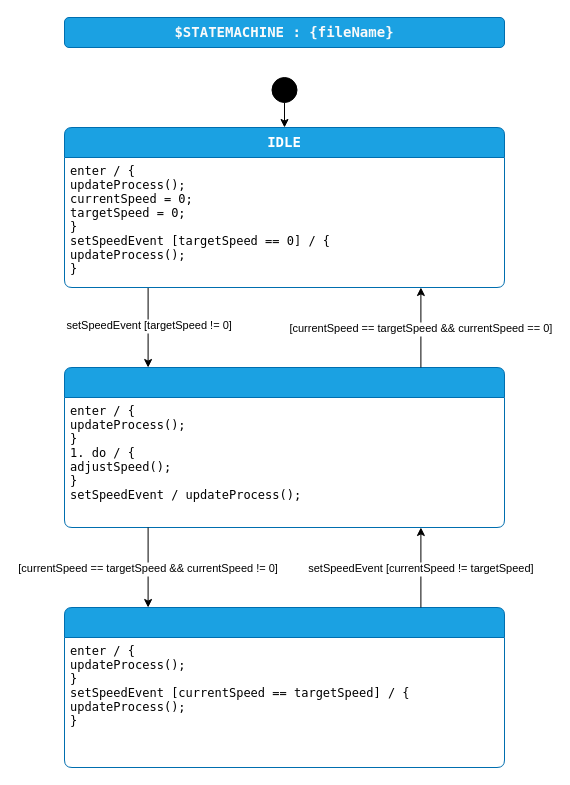
This 570x785 diagram has some shape labels left out. Each missing label, with the box of its shape:
MOVING: (64, 606, 504, 768)
RAMPING: (64, 366, 504, 528)
